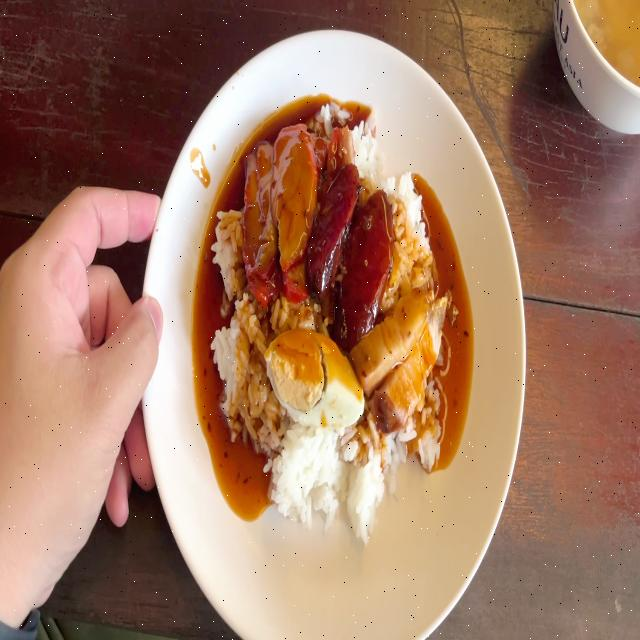boiled_egg: (265, 328, 365, 422)
chainese_sausage: (315, 169, 384, 333), (350, 194, 390, 330), (316, 160, 353, 288)
crispy_pork: (361, 297, 446, 418), (388, 305, 443, 409), (354, 296, 427, 373)
red_pork: (243, 130, 308, 290), (274, 131, 311, 274), (241, 130, 271, 286)
red_pork_and_crispy_pork: (222, 104, 441, 532)
rice: (244, 415, 380, 531), (217, 295, 264, 434)
